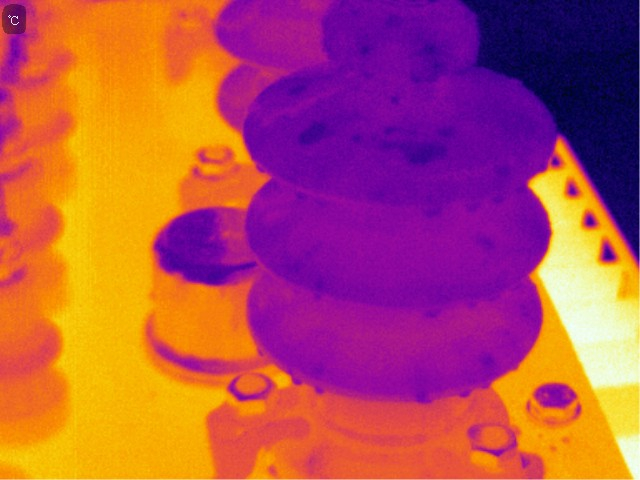Water: (408, 35, 447, 85), (400, 138, 451, 166), (294, 115, 335, 147), (470, 229, 496, 251), (379, 123, 399, 147), (284, 81, 310, 99), (481, 357, 495, 388), (414, 385, 432, 405), (288, 370, 306, 388), (464, 199, 483, 214), (455, 385, 473, 400), (495, 162, 513, 177), (420, 205, 444, 216), (535, 159, 551, 175), (313, 380, 327, 396), (314, 281, 330, 295), (358, 44, 373, 58), (493, 194, 509, 207), (348, 130, 364, 143), (296, 190, 311, 202), (424, 306, 440, 317), (253, 164, 268, 175), (385, 93, 400, 104), (255, 346, 266, 359)
